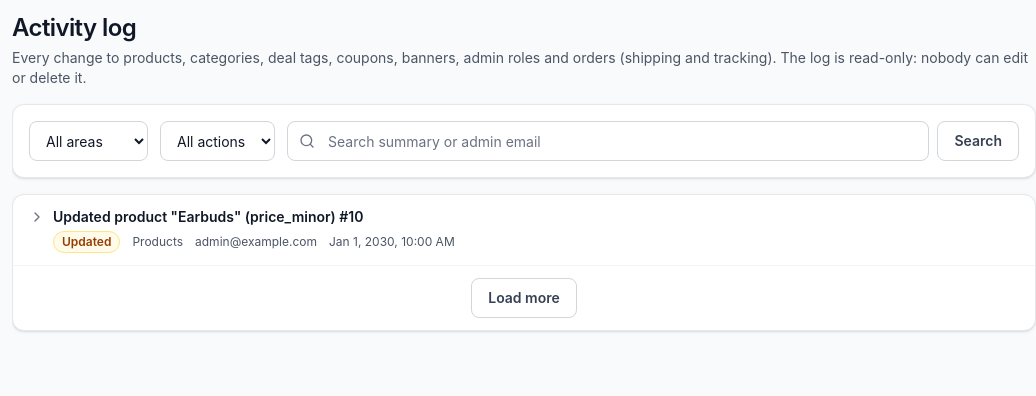
Test case: LogsPage › loads more with the id of the last entry, and appends them
expect the text "Updated product \"Earbuds\" (price_minor) #10" is shown: met, box [53,208,364,225]
expect the text "End of the log" is not shown: met
Click the button "Load more". click: (524, 298)
box: [471,278,577,318]
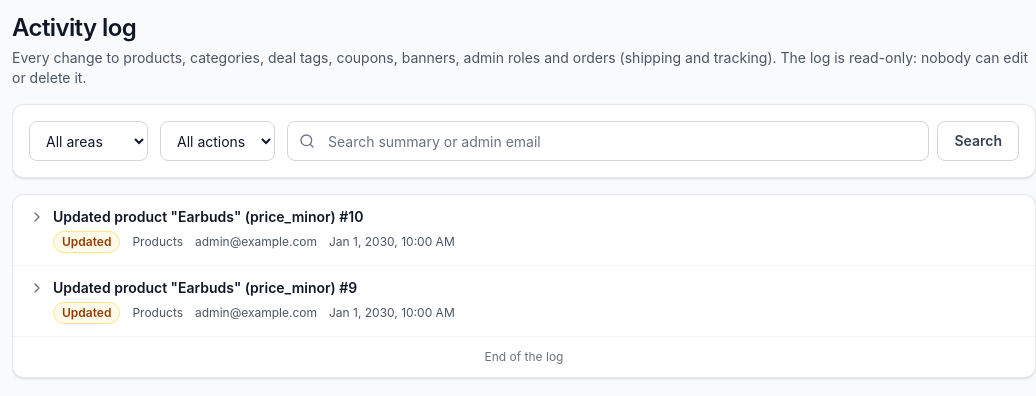
expect the text "Updated product \"Earbuds\" (price_minor) #9" is shown: met, box [53,279,357,296]
expect the button "Load more" is gone: met
expect the text "End of the log" is shown: met, box [484,349,563,364]
